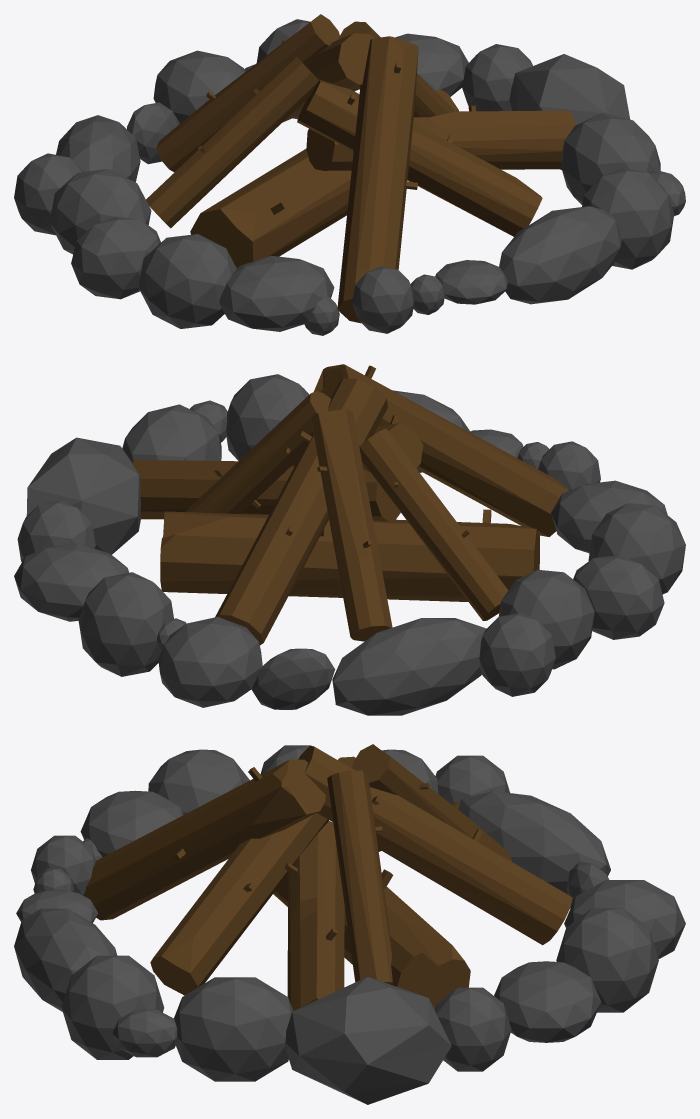
The model's file is campfire.glb.
3 renders of one model, top to bottom at view 1: azimuth 30°, elevation 25°; view 2: azimuth 150°, elevation 25°; view 3: azimuth 270°, elevation 25°, orthographic. The views are drawn at different scales.
Visible parts, largest first — view 1: Icosphere; view 2: Icosphere; view 3: Icosphere.
Boxes of the visible parts, x1,y1,x2,y2 form: Icosphere: (14, 14, 685, 335); Icosphere: (14, 364, 685, 715); Icosphere: (14, 744, 685, 1104).
Bounding box in the file's own units: 18.57 × 6.48 × 17.6.
